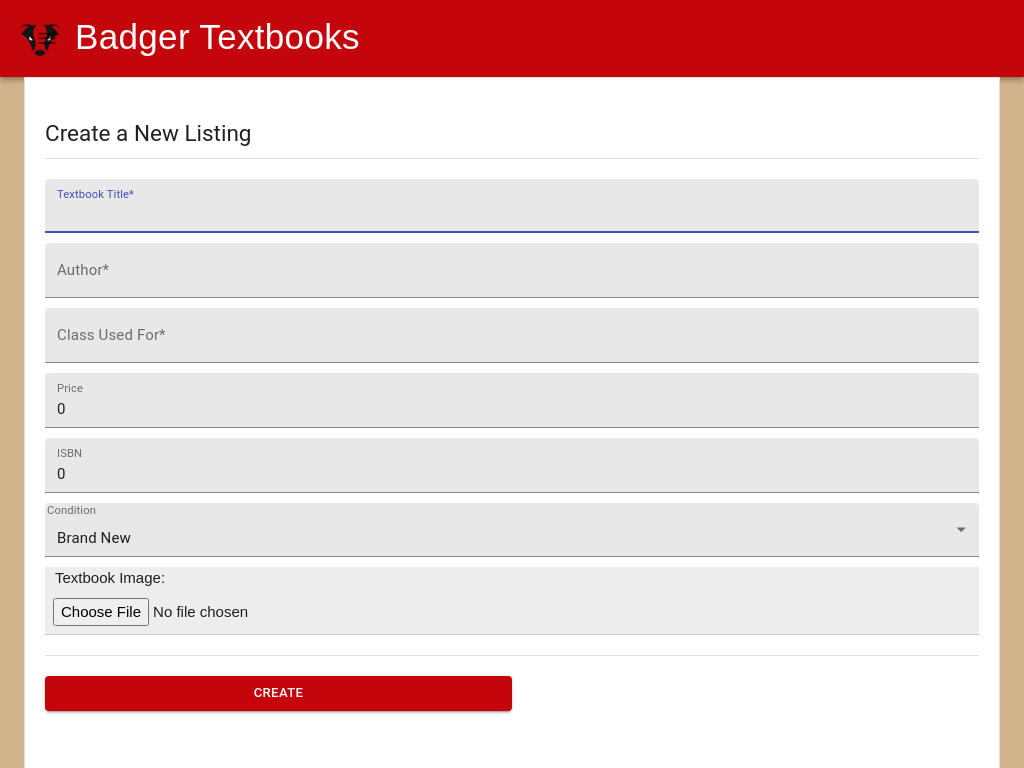
Render and Unit Testing of Create-Listing Page › click menu button
Click the button titled "menu_btn" at x=47, y=38, box x1=24 y1=15 x2=70 y2=62
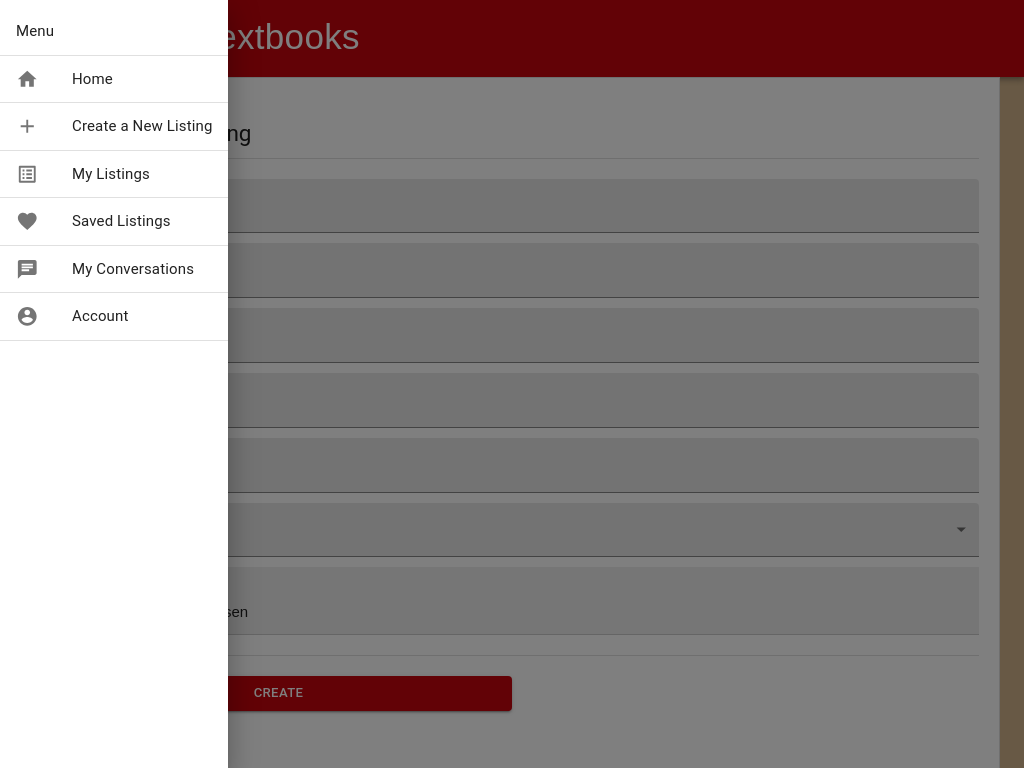
Now the text "Menu" is shown, box x1=16 y1=22 x2=54 y2=40
